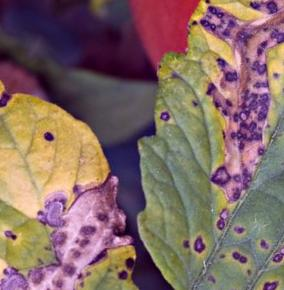Tomato Septoria leaf spot: (42, 2, 284, 290), (0, 79, 207, 290)
